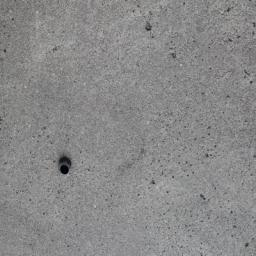FOD: (57, 153, 75, 181)
